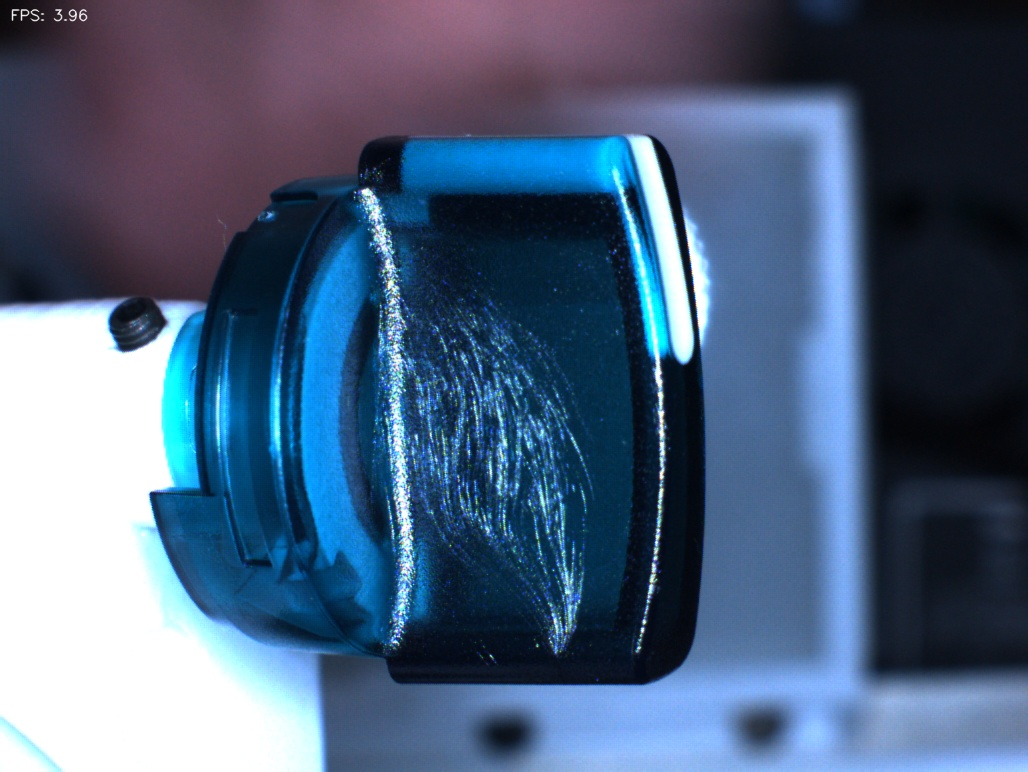Givrage: (403, 262, 610, 660)
